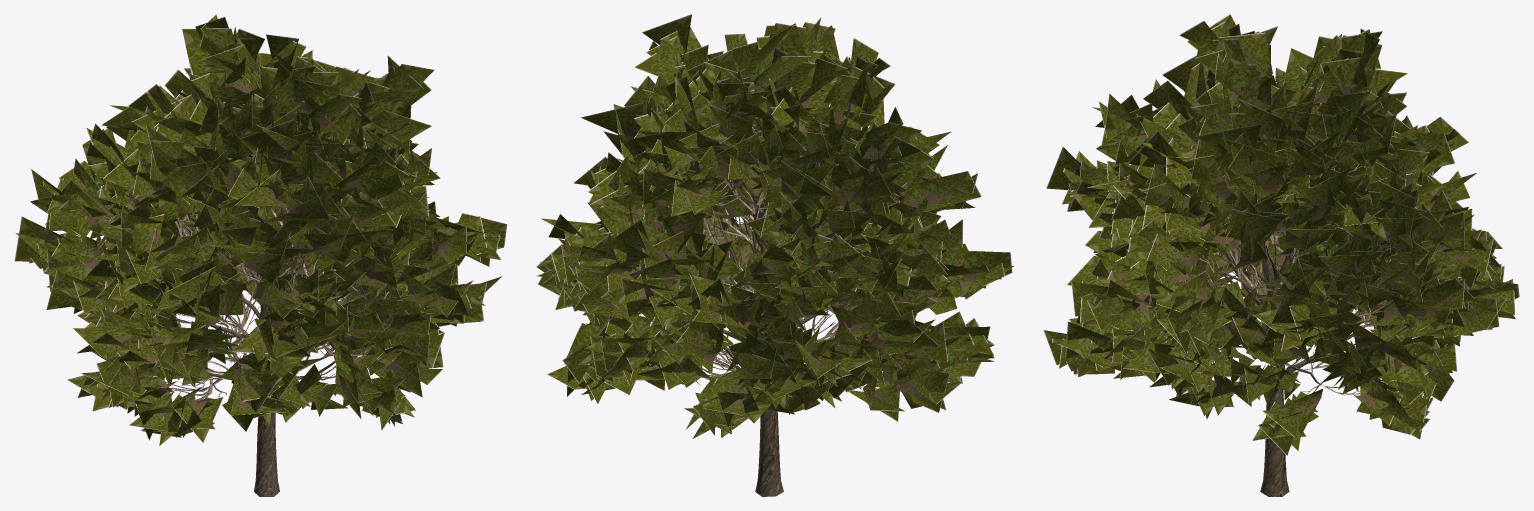
File: tree.glb
The picture shows the model from 3 angles, left to right: view 1: azimuth 30°, elevation 25°; view 2: azimuth 150°, elevation 25°; view 3: azimuth 270°, elevation 25°; orthographic projection. The views are drawn at different scales.
Parts seen in each view (by area): view 1: mesh_1, mesh_1.001, Object_4; view 2: mesh_1, mesh_1.001, Object_4; view 3: mesh_1, Object_4, mesh_1.001.
Boxes of the visible parts, box(x1,y1,x2,y2) form: mesh_1: box(14, 14, 507, 445); mesh_1.001: box(78, 86, 446, 401); Object_4: box(205, 201, 397, 496); mesh_1: box(536, 14, 1014, 438); mesh_1.001: box(637, 65, 941, 391); Object_4: box(718, 127, 842, 496); mesh_1: box(1043, 14, 1519, 455); Object_4: box(1206, 232, 1395, 496); mesh_1.001: box(1112, 95, 1449, 395).
Bounding box in the file's own units: 70.32 × 75.02 × 70.59.
Materials: 3 (3 with a texture image).
